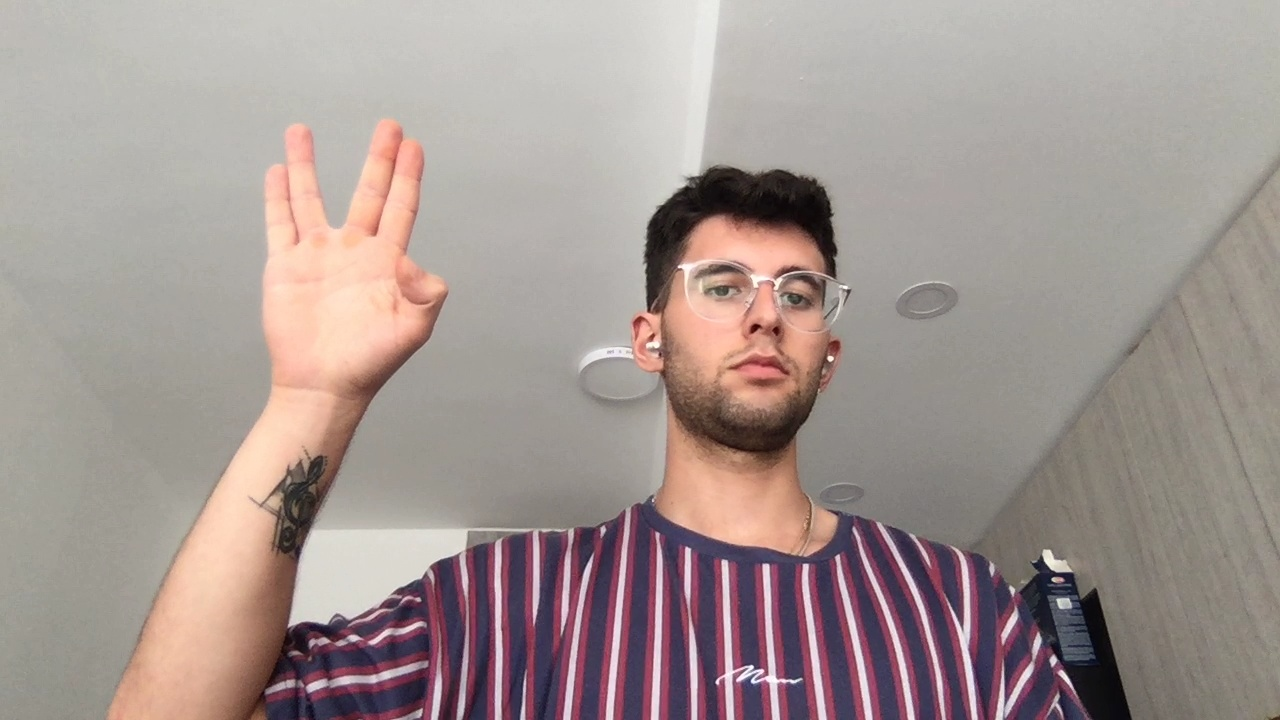LiveLong: (259, 110, 457, 398)
